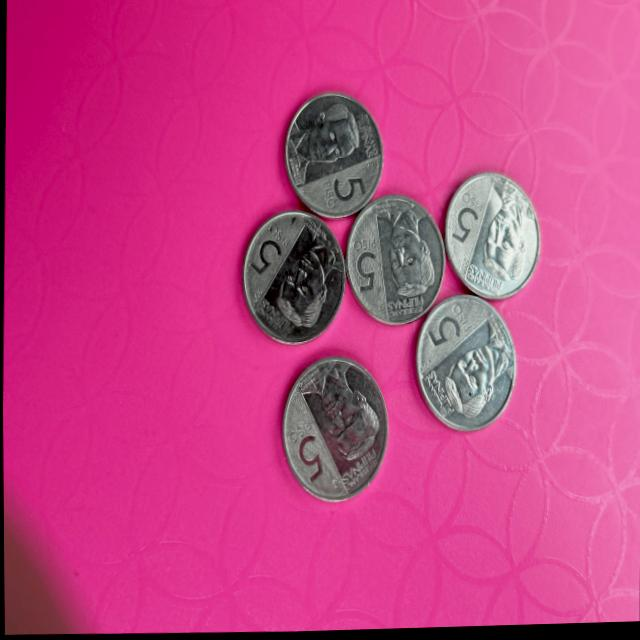5_New_Front: (245, 218, 303, 298), (282, 407, 325, 487), (444, 177, 485, 256), (312, 163, 373, 216), (346, 218, 387, 291), (426, 302, 475, 360)
